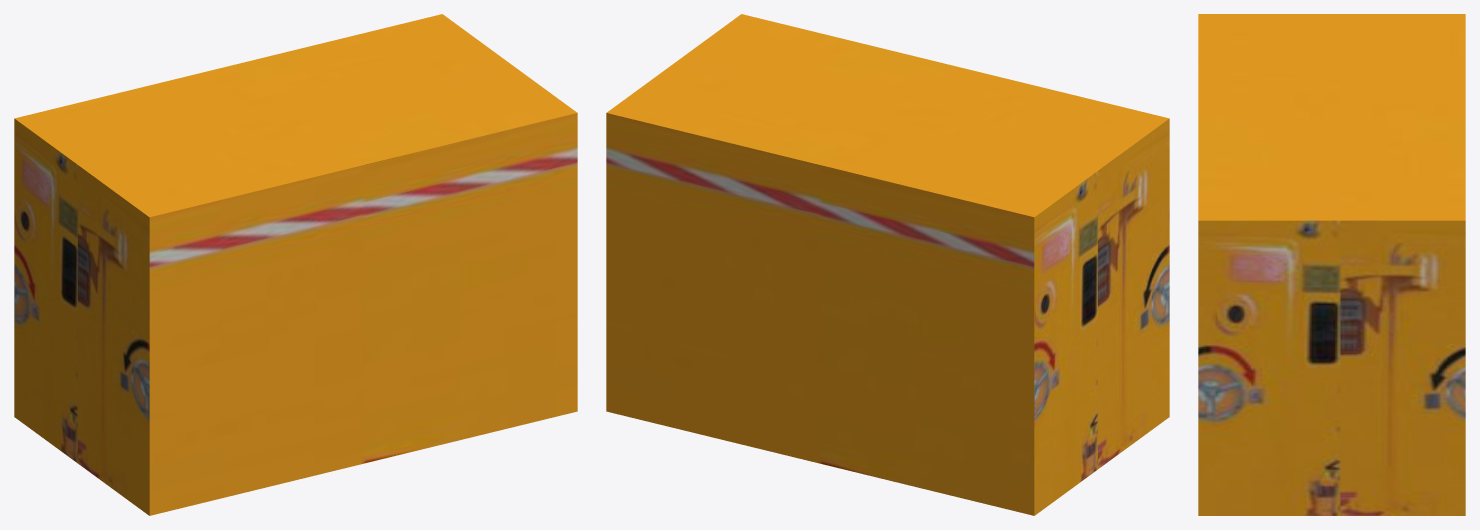
The model's file is bihusuo.gltf.
3 views of the same model, side by side, from view 1: azimuth 30°, elevation 25°; view 2: azimuth 150°, elevation 25°; view 3: azimuth 270°, elevation 25° (orthographic).
Visible parts, largest first — view 1: Mesh1 Model; view 2: Mesh1 Model; view 3: Mesh1 Model.
Boxes of the visible parts, x1,y1,x2,y2 form: Mesh1 Model: [14, 14, 577, 515]; Mesh1 Model: [606, 14, 1169, 515]; Mesh1 Model: [1198, 14, 1465, 515].
Bounding box in the file's own units: 3 × 2 × 1.64.
3 materials, 3 textured.
